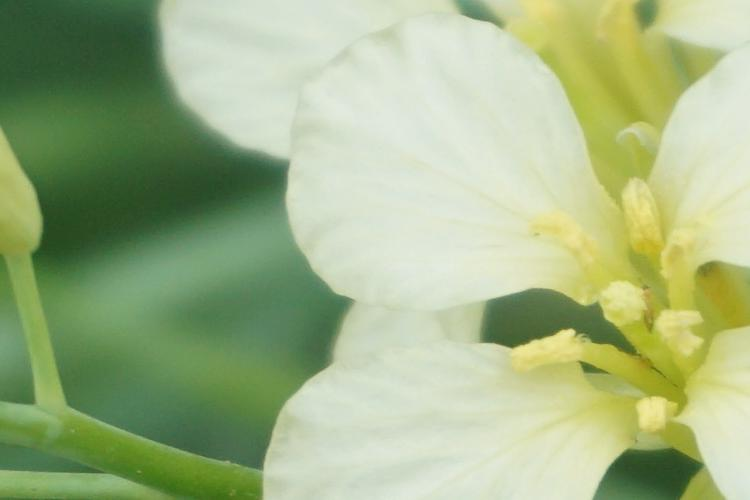white: (287, 35, 750, 493)
